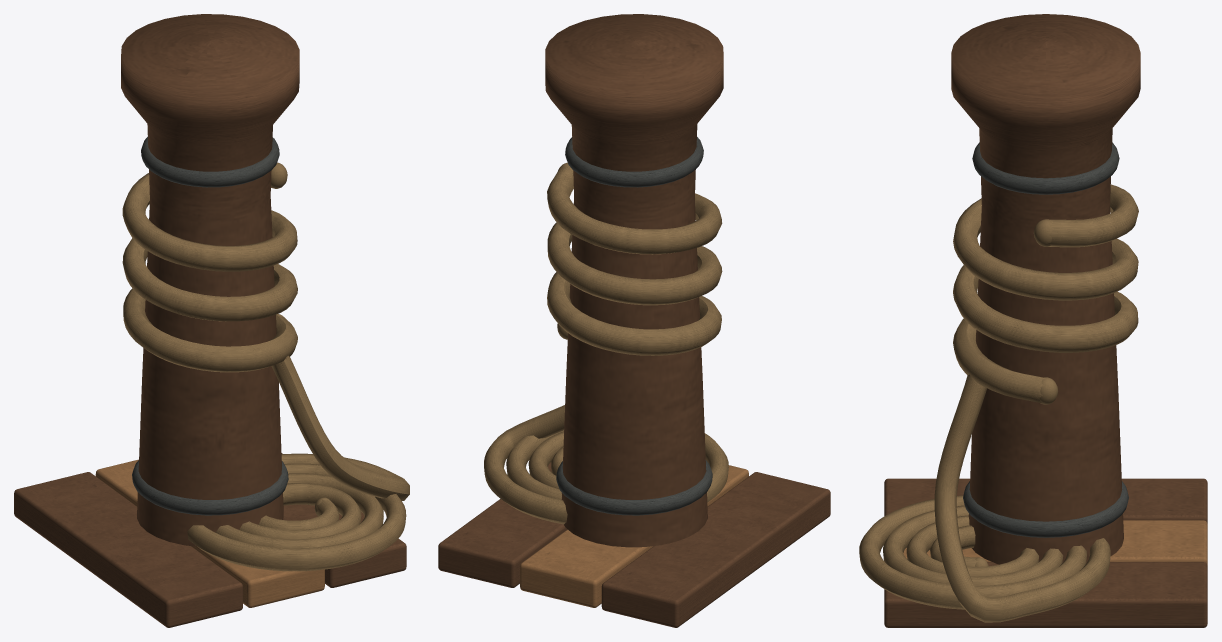
File: mooring_post.glb
The picture shows the model from 3 angles, left to right: view 1: azimuth 30°, elevation 25°; view 2: azimuth 150°, elevation 25°; view 3: azimuth 270°, elevation 25°; orthographic projection. The views are drawn at different scales.
Parts seen in each view (by area): view 1: mooring_post; view 2: mooring_post; view 3: mooring_post.
Boxes of the visible parts, left/top/right/bottom form: mooring_post: left=14, top=14, right=409, bottom=627; mooring_post: left=438, top=14, right=830, bottom=627; mooring_post: left=859, top=14, right=1207, bottom=627.
Bounding box in the file's own units: 0.6 × 1 × 0.6.
1 material, 1 textured.
